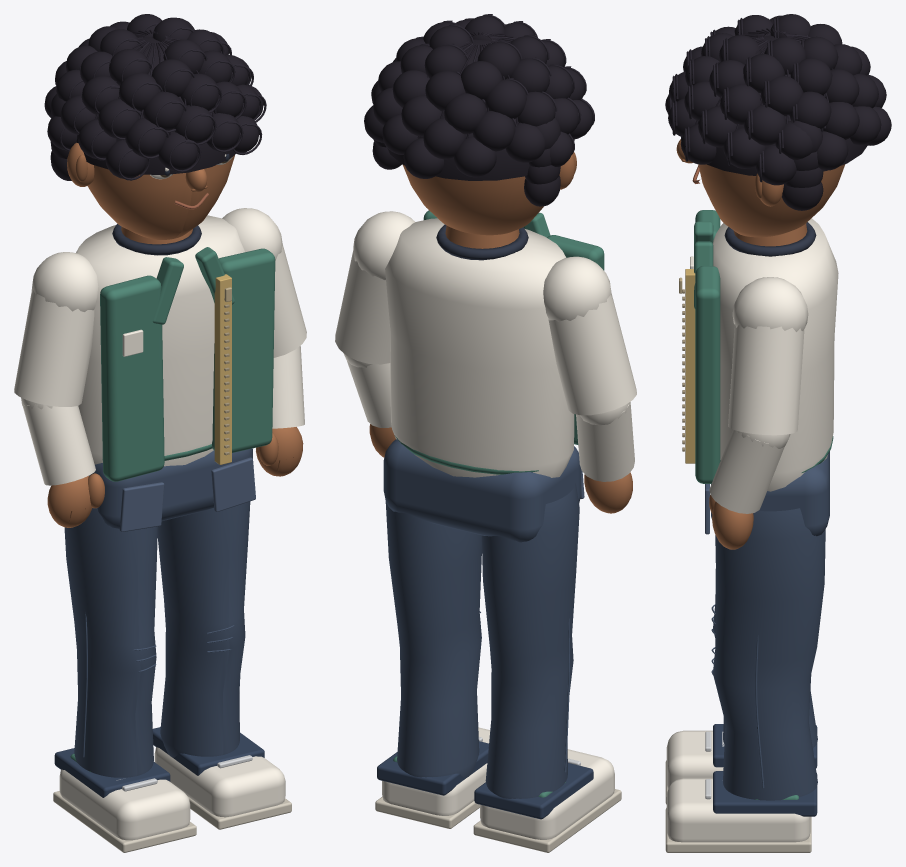
File: compa-alma.glb
3 renders of one model, left to right at view 1: azimuth 30°, elevation 25°; view 2: azimuth 150°, elevation 25°; view 3: azimuth 270°, elevation 25°, orthographic. The views are drawn at different scales.
Parts seen in each view (by area): view 1: body, head; view 2: body, head; view 3: body, head.
Part boxes in pixels (left/top/right/bottom): body: left=14, top=208, right=306, bottom=852; head: left=44, top=14, right=266, bottom=239; body: left=335, top=210, right=636, bottom=852; head: left=364, top=14, right=594, bottom=235; body: left=665, top=210, right=838, bottom=852; head: left=665, top=14, right=891, bottom=237.
Bounding box in the file's own units: 0.8052 × 2.07 × 0.5429.
